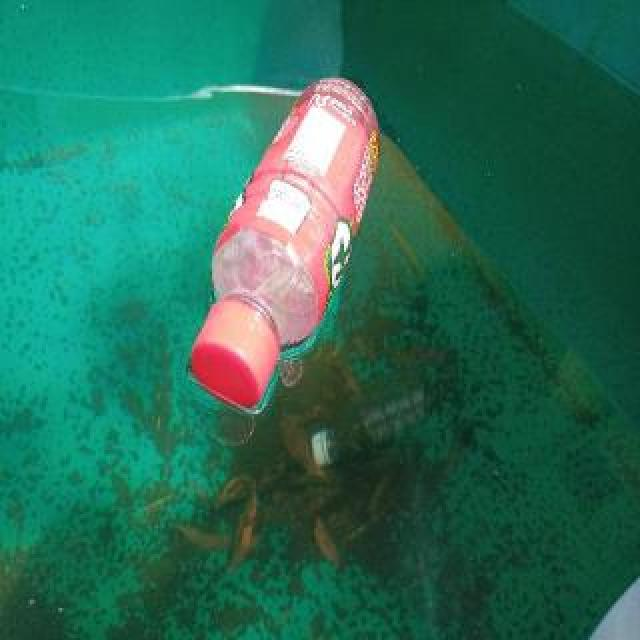Bottle: (190, 76, 384, 416)
